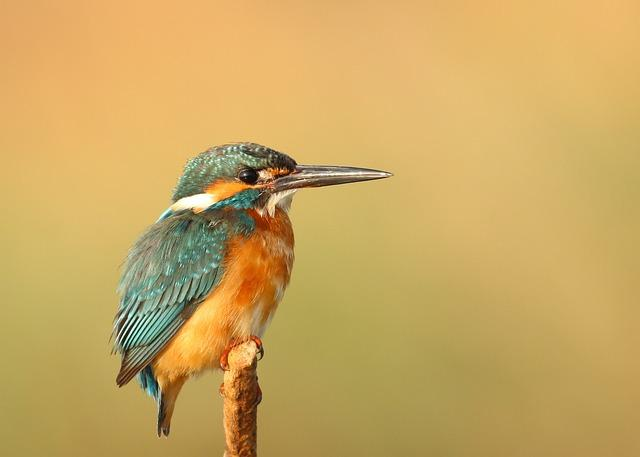bird: (112, 142, 389, 436)
